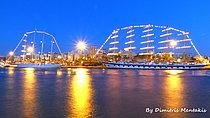Ship: (105, 56, 210, 74), (17, 58, 66, 74)
